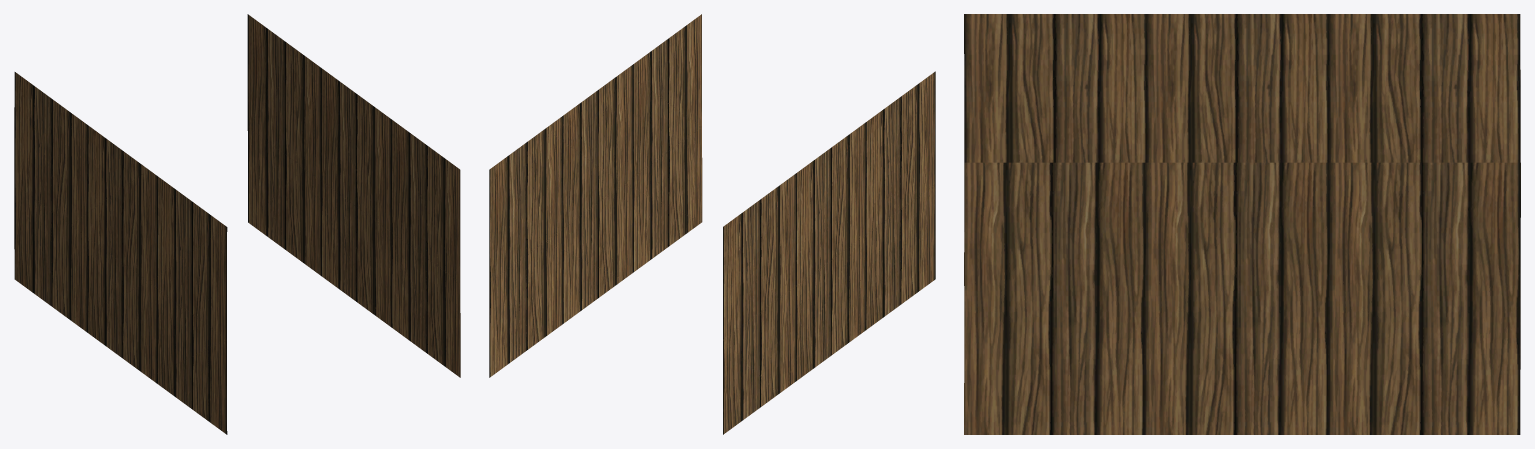
File: LAKETOWN_WAREHOUSE2_PS_WH2_WALLS37364.fbx
The picture shows the model from 3 angles, left to right: view 1: azimuth 30°, elevation 25°; view 2: azimuth 150°, elevation 25°; view 3: azimuth 270°, elevation 25°; orthographic projection. The views are drawn at different scales.
Parts seen in each view (by area): view 1: LAKETOWN_WAREHOUSE2_PS_WH2_WALLS37364; view 2: LAKETOWN_WAREHOUSE2_PS_WH2_WALLS37364; view 3: LAKETOWN_WAREHOUSE2_PS_WH2_WALLS37364.
Boxes of the visible parts, x1,y1,x2,y2 form: LAKETOWN_WAREHOUSE2_PS_WH2_WALLS37364: (14,14,460,434); LAKETOWN_WAREHOUSE2_PS_WH2_WALLS37364: (489,14,935,434); LAKETOWN_WAREHOUSE2_PS_WH2_WALLS37364: (964,14,1520,434).
Bounding box in the file's own units: 23858 × 20342 × 37691.
1 material, 1 textured.
